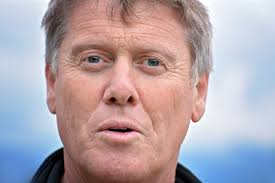white_male: (57, 15, 188, 168)
